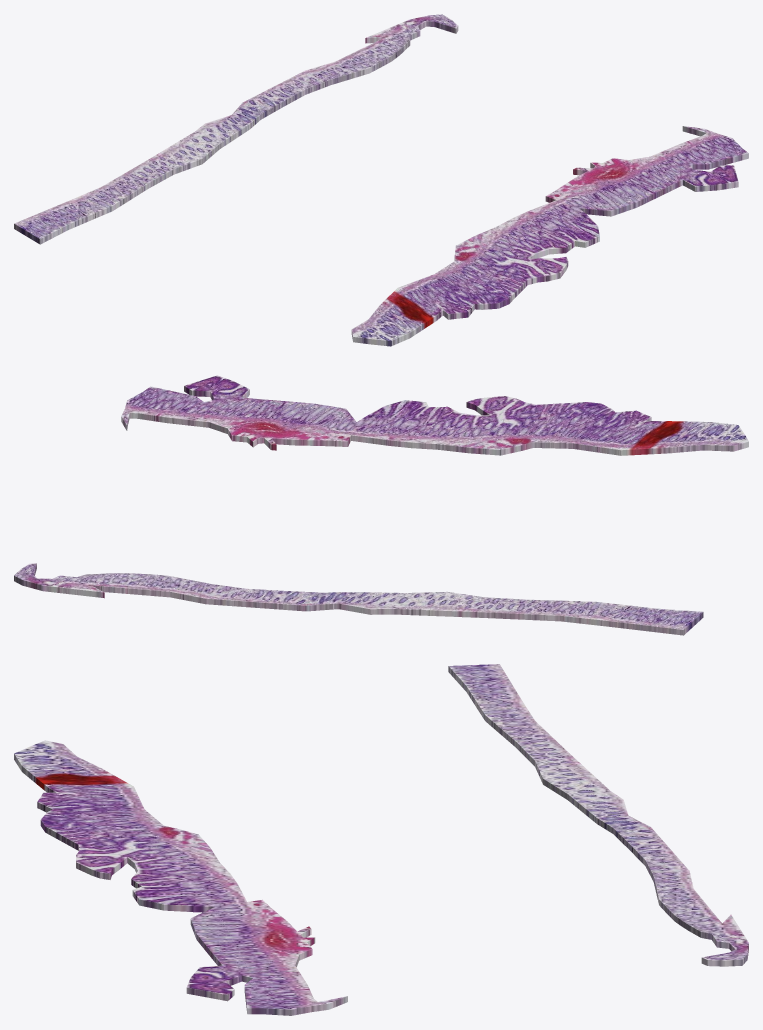
3 renders of one model, top to bottom at view 1: azimuth 30°, elevation 25°; view 2: azimuth 150°, elevation 25°; view 3: azimuth 270°, elevation 25°, orthographic. The views are drawn at different scales.
Parts seen in each view (by area): view 1: 平面; view 2: 平面; view 3: 平面.
Boxes of the visible parts, box(x1,y1,x2,y2) form: 平面: box(14, 14, 748, 346); 平面: box(14, 375, 748, 635); 平面: box(14, 664, 748, 1015).
Bounding box in the file's own units: 20.05 × 0.1646 × 18.01.
1 material, 1 textured.
